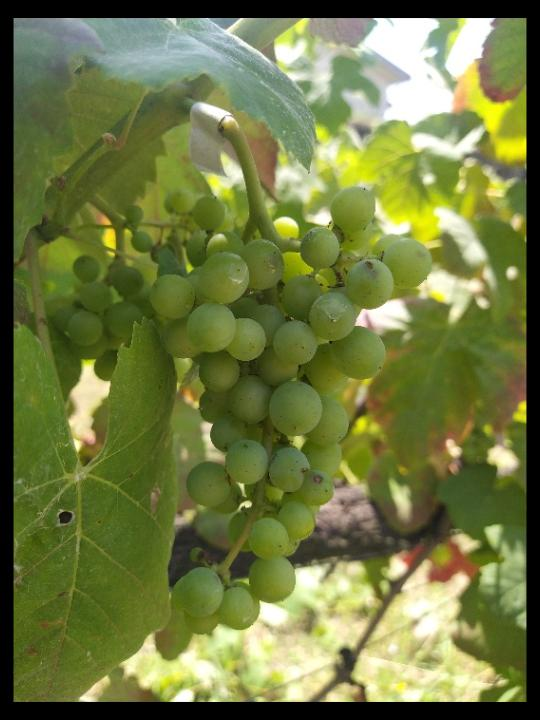grape: (149, 181, 440, 638)
